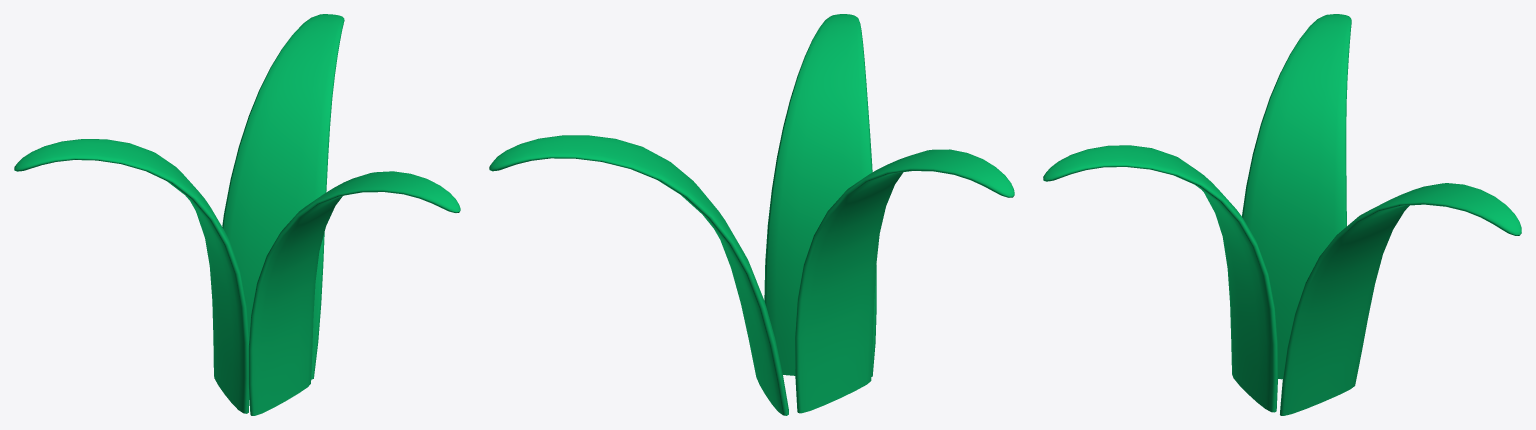
The model's file is Farm_14_Plant_2.glb.
The picture shows the model from 3 angles, left to right: view 1: azimuth 30°, elevation 25°; view 2: azimuth 150°, elevation 25°; view 3: azimuth 270°, elevation 25°; orthographic projection. The views are drawn at different scales.
Parts seen in each view (by area): view 1: Farm_14_Plant_2; view 2: Farm_14_Plant_2; view 3: Farm_14_Plant_2.
Part boxes in pixels (x1,y1,x2,y2): Farm_14_Plant_2: [14, 14, 460, 415]; Farm_14_Plant_2: [489, 14, 1014, 415]; Farm_14_Plant_2: [1043, 14, 1521, 415].
Size of the model in its own units: 1.28 by 0.8001 by 1.25.
1 material, 1 textured.
